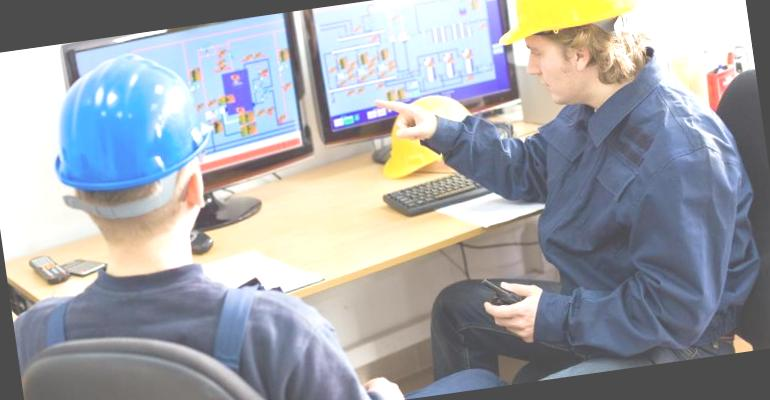helmet: (27, 46, 227, 205), (482, 0, 641, 56)
no_vest: (532, 90, 762, 340), (35, 240, 319, 400)
person: (6, 32, 321, 400), (485, 0, 762, 367)
